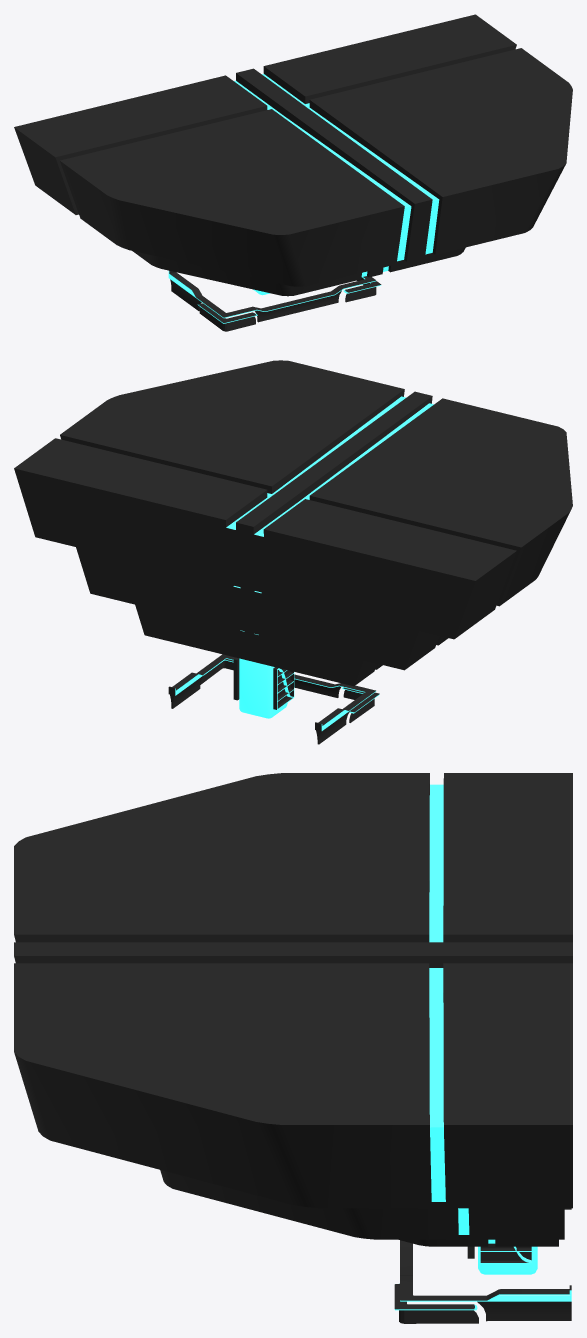
File: bg_barra.FBX
3 renders of one model, top to bottom at view 1: azimuth 30°, elevation 25°; view 2: azimuth 150°, elevation 25°; view 3: azimuth 270°, elevation 25°, orthographic. The views are drawn at different scales.
Visible parts, largest first — view 1: Barra_Piso_01, Barra_Piso_02, Barra_Barra_01, Barra_Barra_02; view 2: Barra_Piso_01, Barra_Piso_02, Barra_Piso_03, Barra_Barra_01, Barra_Centro_Luz, Barra_Barra_02, Barra_Estanteria_01; view 3: Barra_Piso_01, Barra_Piso_02, Barra_Barra_01, Barra_Barra_02, Barra_Piso_03, Barra_Estanteria_03, Barra_Centro_Luz.
Part boxes in pixels (x1=…): Barra_Piso_01: x1=14, y1=14, x2=572, y2=286; Barra_Piso_02: x1=132, y1=247, x2=465, y2=296; Barra_Barra_01: x1=168, y1=270, x2=376, y2=322; Barra_Barra_02: x1=197, y1=277, x2=381, y2=331; Barra_Piso_01: x1=14, y1=360, x2=572, y2=639; Barra_Piso_02: x1=76, y1=547, x2=448, y2=670; Barra_Piso_03: x1=135, y1=604, x2=382, y2=686; Barra_Barra_01: x1=168, y1=654, x2=376, y2=744; Barra_Centro_Luz: x1=239, y1=658, x2=287, y2=718; Barra_Barra_02: x1=200, y1=659, x2=379, y2=722; Barra_Estanteria_01: x1=273, y1=667, x2=294, y2=709; Barra_Piso_01: x1=14, y1=773, x2=572, y2=1208; Barra_Piso_02: x1=160, y1=1170, x2=564, y2=1239; Barra_Barra_01: x1=400, y1=1208, x2=571, y2=1321; Barra_Barra_02: x1=394, y1=1283, x2=478, y2=1323; Barra_Piso_03: x1=399, y1=1235, x2=558, y2=1246; Barra_Estanteria_03: x1=479, y1=1243, x2=533, y2=1264; Barra_Centro_Luz: x1=478, y1=1246, x2=537, y2=1274.
Bounding box in the file's own units: 3518 × 1474 × 2362.
